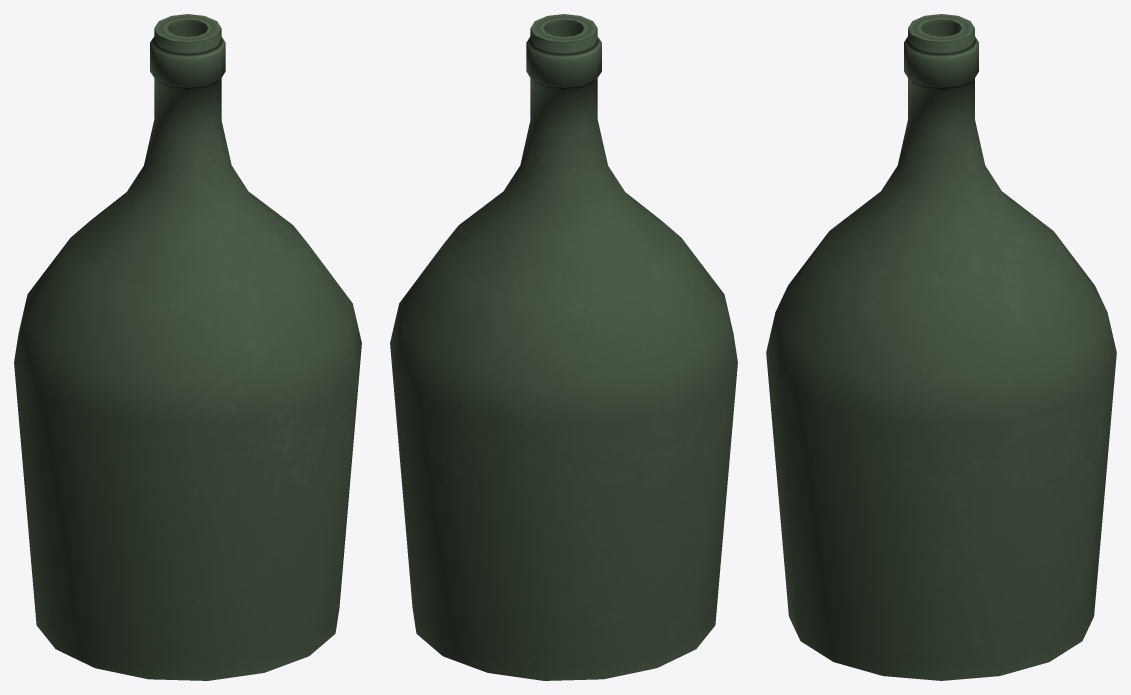
Rendered from LOD0_bigBottle.fbx.
3 renders of one model, left to right at view 1: azimuth 30°, elevation 25°; view 2: azimuth 150°, elevation 25°; view 3: azimuth 270°, elevation 25°, orthographic.
Visible parts, largest first — view 1: LOD0_bigBottle; view 2: LOD0_bigBottle; view 3: LOD0_bigBottle.
Boxes of the visible parts, x1,y1,x2,y2 form: LOD0_bigBottle: [14, 14, 361, 680]; LOD0_bigBottle: [390, 14, 737, 680]; LOD0_bigBottle: [766, 14, 1116, 680].
Size of the model in its own units: 0.2174 by 0.4024 by 0.2174.
